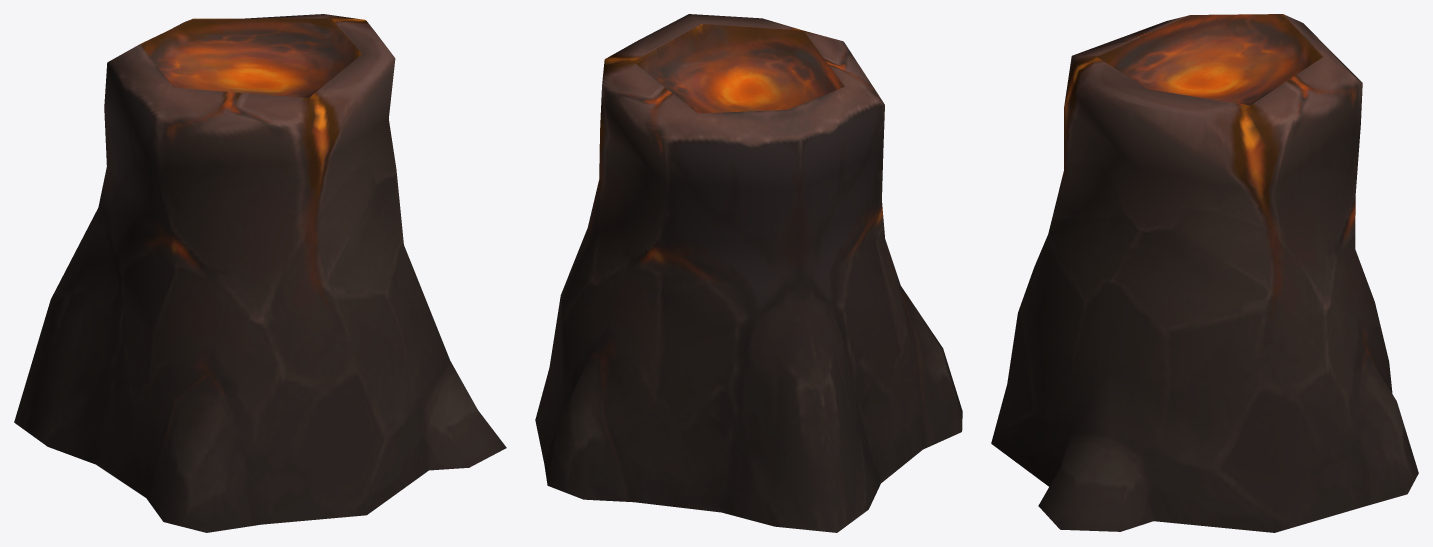
The model's file is yw_zhaoze_swampstone_001.FBX.
3 renders of one model, left to right at view 1: azimuth 30°, elevation 25°; view 2: azimuth 150°, elevation 25°; view 3: azimuth 270°, elevation 25°, orthographic. The views are drawn at different scales.
Visible parts, largest first — view 1: yw_zhaoze_swampstone_001; view 2: yw_zhaoze_swampstone_001; view 3: yw_zhaoze_swampstone_001.
Boxes of the visible parts, x1,y1,x2,y2 form: yw_zhaoze_swampstone_001: (14,14,506,532); yw_zhaoze_swampstone_001: (535,14,962,532); yw_zhaoze_swampstone_001: (991,14,1418,532).
Size of the model in its own units: 213 by 223 by 224.
